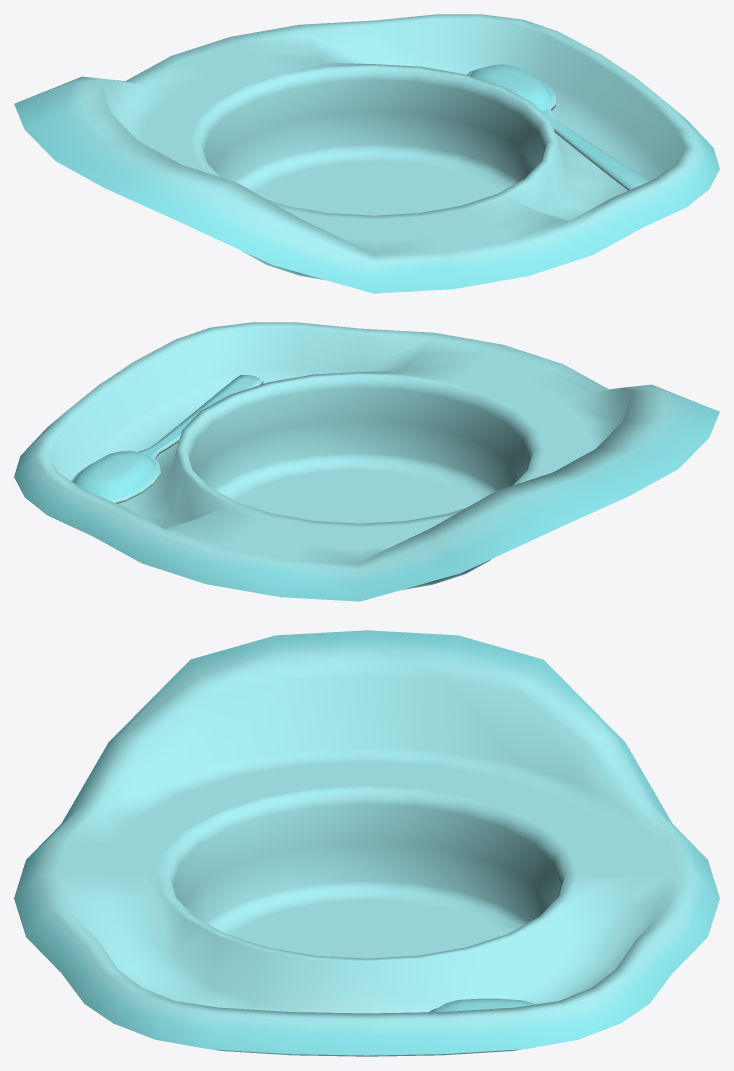
File: dessert_cup_1.fbx
3 views of the same model, one above another, from view 1: azimuth 30°, elevation 25°; view 2: azimuth 150°, elevation 25°; view 3: azimuth 270°, elevation 25° (orthographic). The views are drawn at different scales.
Parts seen in each view (by area): view 1: plate_&_spoon; view 2: plate_&_spoon; view 3: plate_&_spoon.
Part boxes in pixels (x1,y1,x2,y2): plate_&_spoon: (14, 14, 719, 293); plate_&_spoon: (14, 322, 719, 601); plate_&_spoon: (14, 630, 719, 1056).
Bounding box in the file's own units: 23.95 × 5.55 × 21.37.
